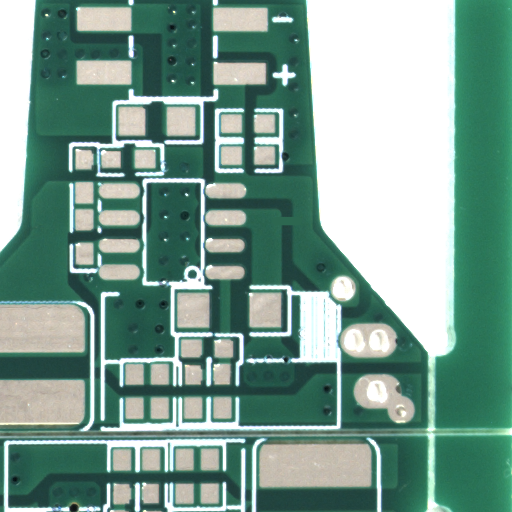Short: (286, 220, 307, 235)
